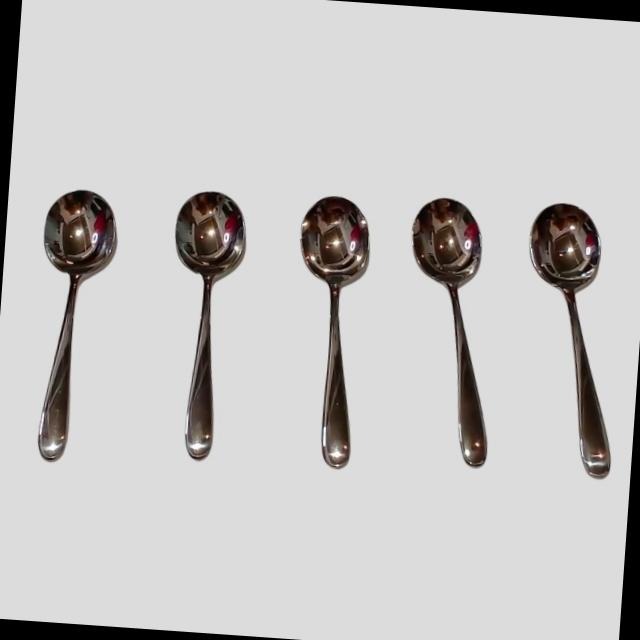spoon: (276, 182, 399, 488)
